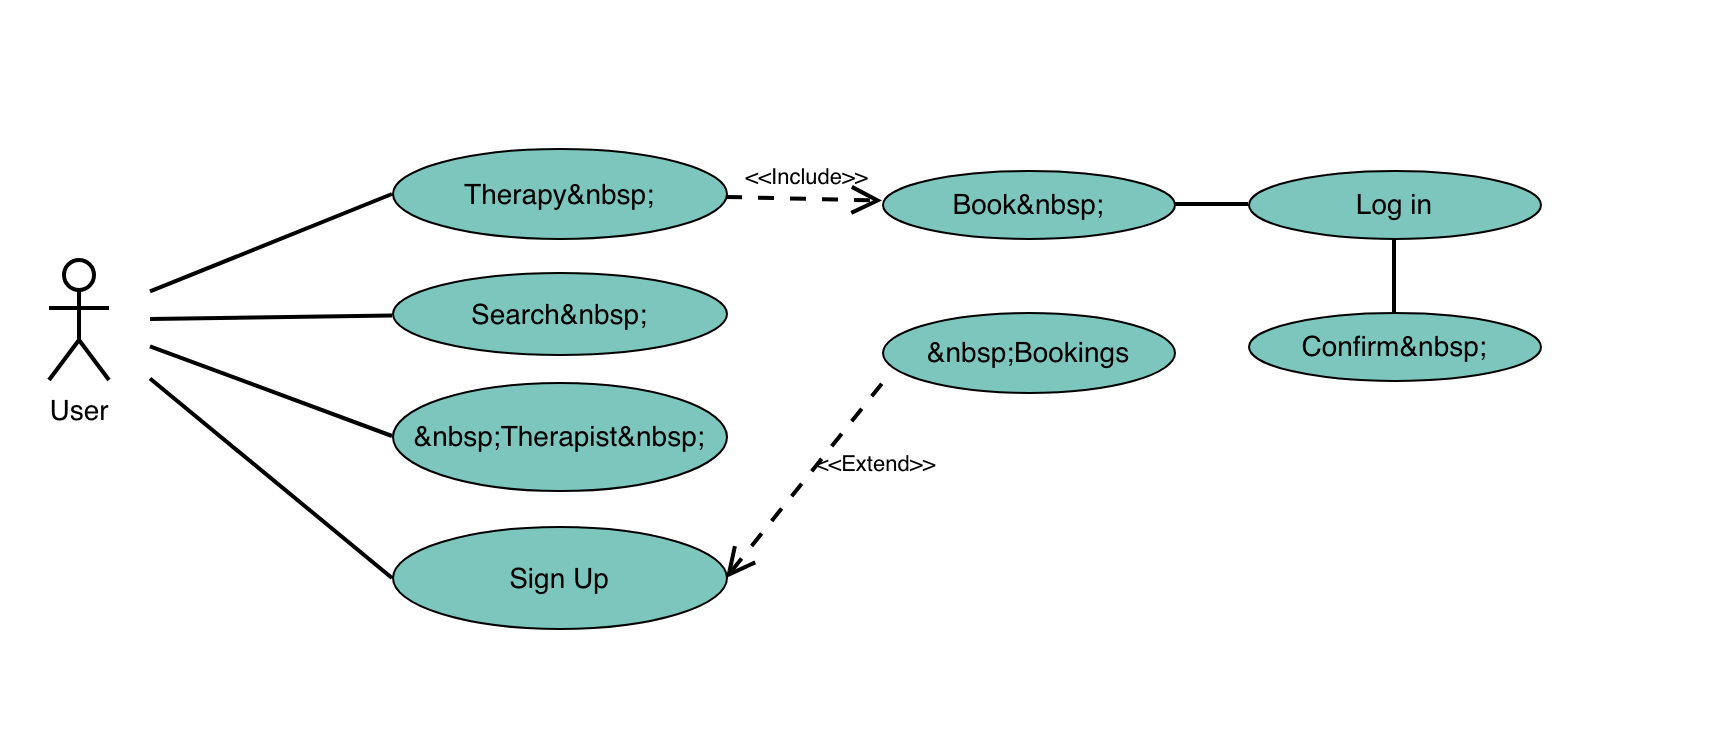actor: (40, 252, 114, 392)
association: (150, 376, 389, 574), (728, 383, 887, 580), (147, 189, 393, 292), (147, 338, 390, 441), (150, 299, 393, 337), (730, 178, 884, 220), (1369, 240, 1417, 311), (1178, 185, 1245, 224)
text: (407, 418, 708, 460), (461, 171, 660, 220), (452, 293, 669, 336), (923, 335, 1138, 373), (497, 549, 625, 612), (936, 183, 1110, 228), (1290, 331, 1495, 366), (1345, 180, 1441, 228), (820, 448, 944, 484), (741, 160, 871, 194), (46, 393, 120, 428)
use_case: (392, 379, 731, 497), (388, 522, 729, 634), (389, 146, 727, 243), (391, 270, 730, 361), (880, 308, 1178, 397), (1245, 310, 1545, 386), (1246, 166, 1544, 243), (881, 167, 1179, 241)
